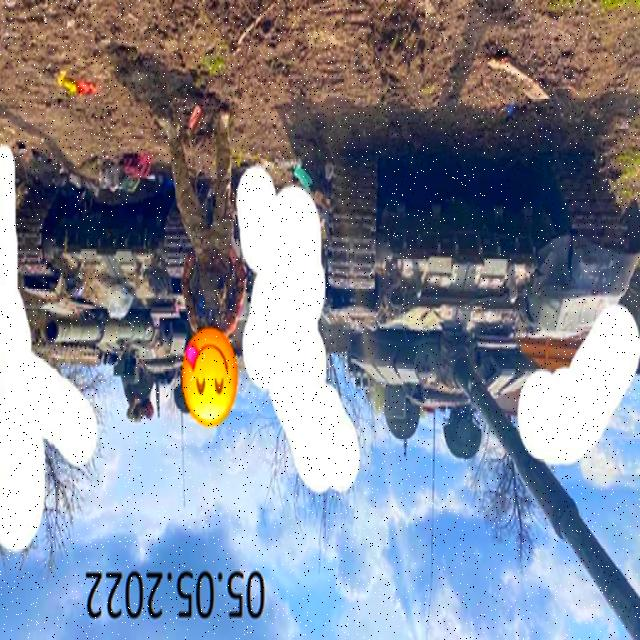TANK: (329, 142, 640, 640), (18, 178, 254, 416)
